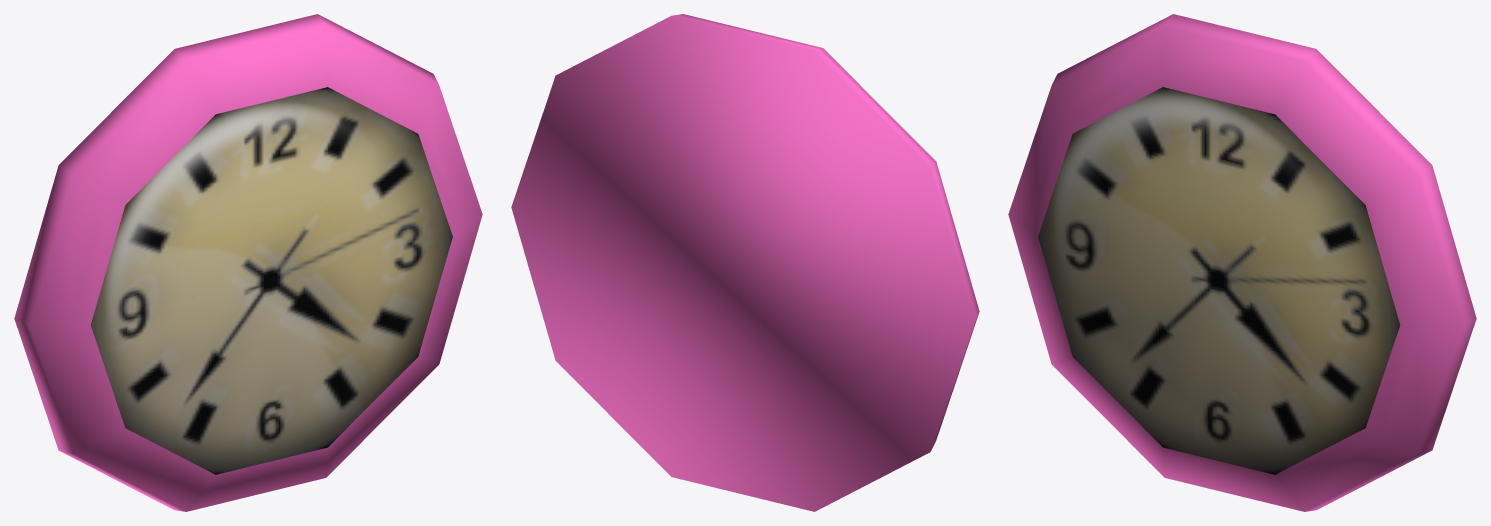
Rendered from Wall_Clock_I.FBX.
The picture shows the model from 3 angles, left to right: view 1: azimuth 30°, elevation 25°; view 2: azimuth 150°, elevation 25°; view 3: azimuth 330°, elevation 25°; orthographic projection.
Visible parts, largest first — view 1: Wall_Clock; view 2: Wall_Clock; view 3: Wall_Clock.
Boxes of the visible parts, x1,y1,x2,y2 form: Wall_Clock: (14,14,482,511); Wall_Clock: (511,14,979,511); Wall_Clock: (1008,14,1476,511).
Size of the model in its own units: 130 by 124 by 12.52.
